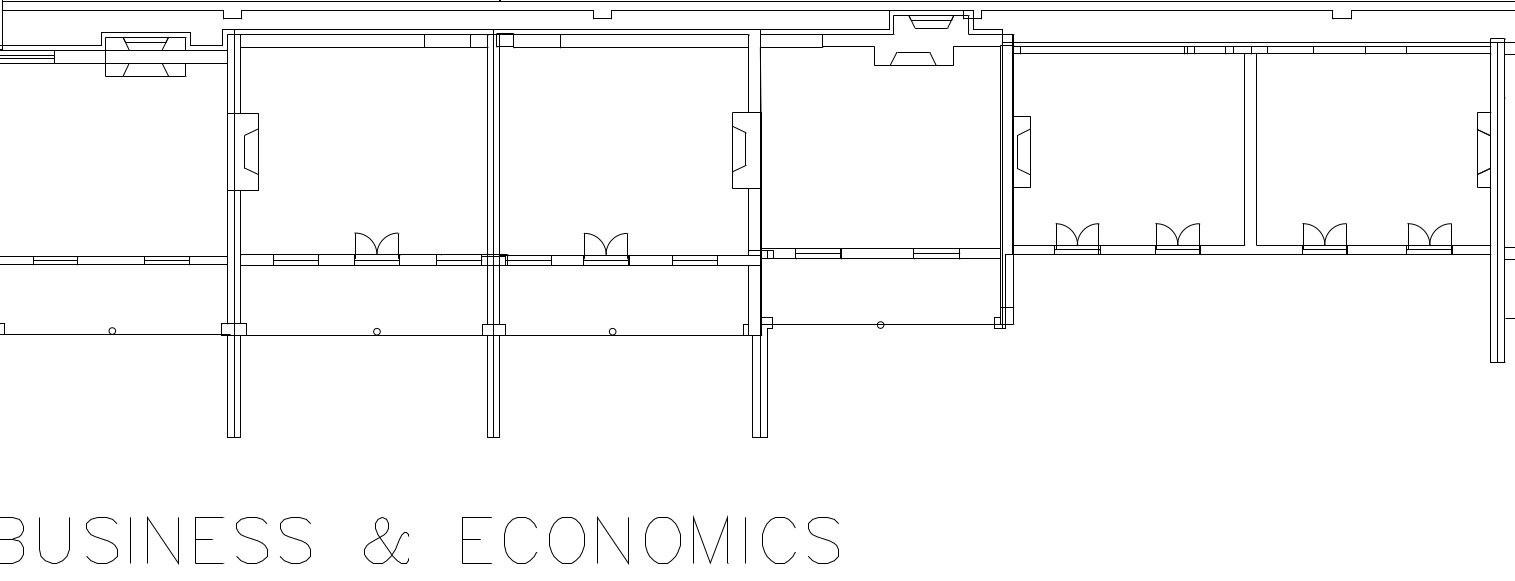door: (1295, 210, 1354, 251), (1400, 209, 1459, 250), (350, 219, 405, 255), (579, 222, 634, 258), (1049, 210, 1104, 246), (1151, 214, 1206, 250)
